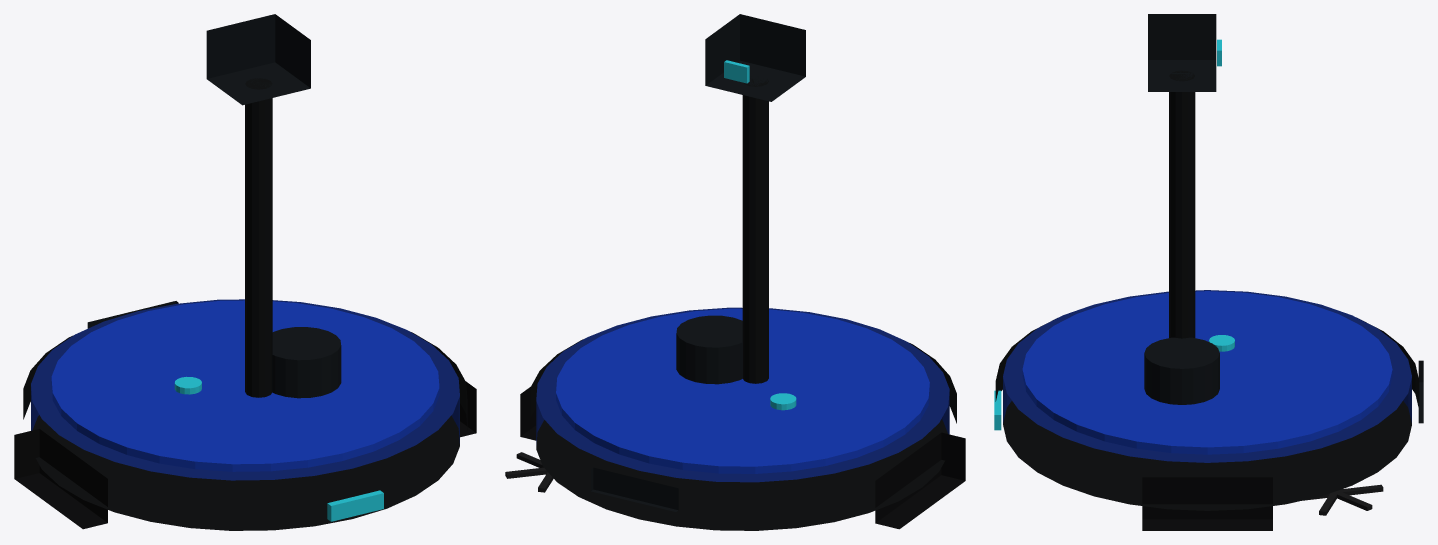
Rendered from robot_blue_h060.obj.
3 views of the same model, side by side, from view 1: azimuth 30°, elevation 25°; view 2: azimuth 150°, elevation 25°; view 3: azimuth 270°, elevation 25° (orthographic). The views are drawn at different scales.
Visible parts, largest first — view 1: low_poly_robot_vacuum; view 2: low_poly_robot_vacuum; view 3: low_poly_robot_vacuum.
Boxes of the visible parts, bbox=[...] form: low_poly_robot_vacuum: bbox=[14, 14, 476, 530]; low_poly_robot_vacuum: bbox=[505, 14, 965, 530]; low_poly_robot_vacuum: bbox=[994, 14, 1423, 530].
Bounding box in the file's own units: 0.596 × 0.623 × 0.592.
